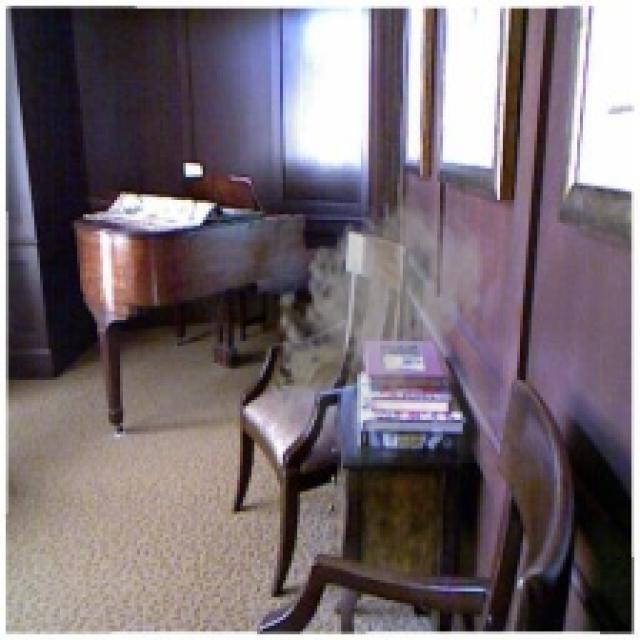Smoke: (263, 186, 492, 463)
